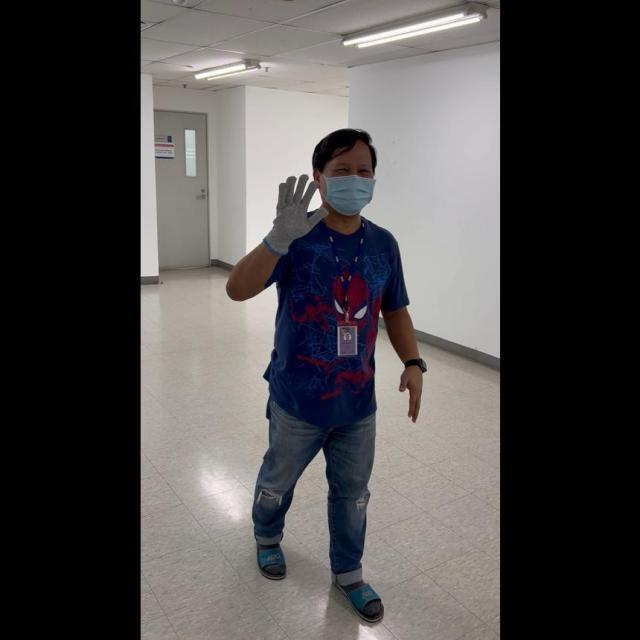bare_hand: (397, 360, 424, 423)
gloved_hand: (263, 173, 324, 252)
